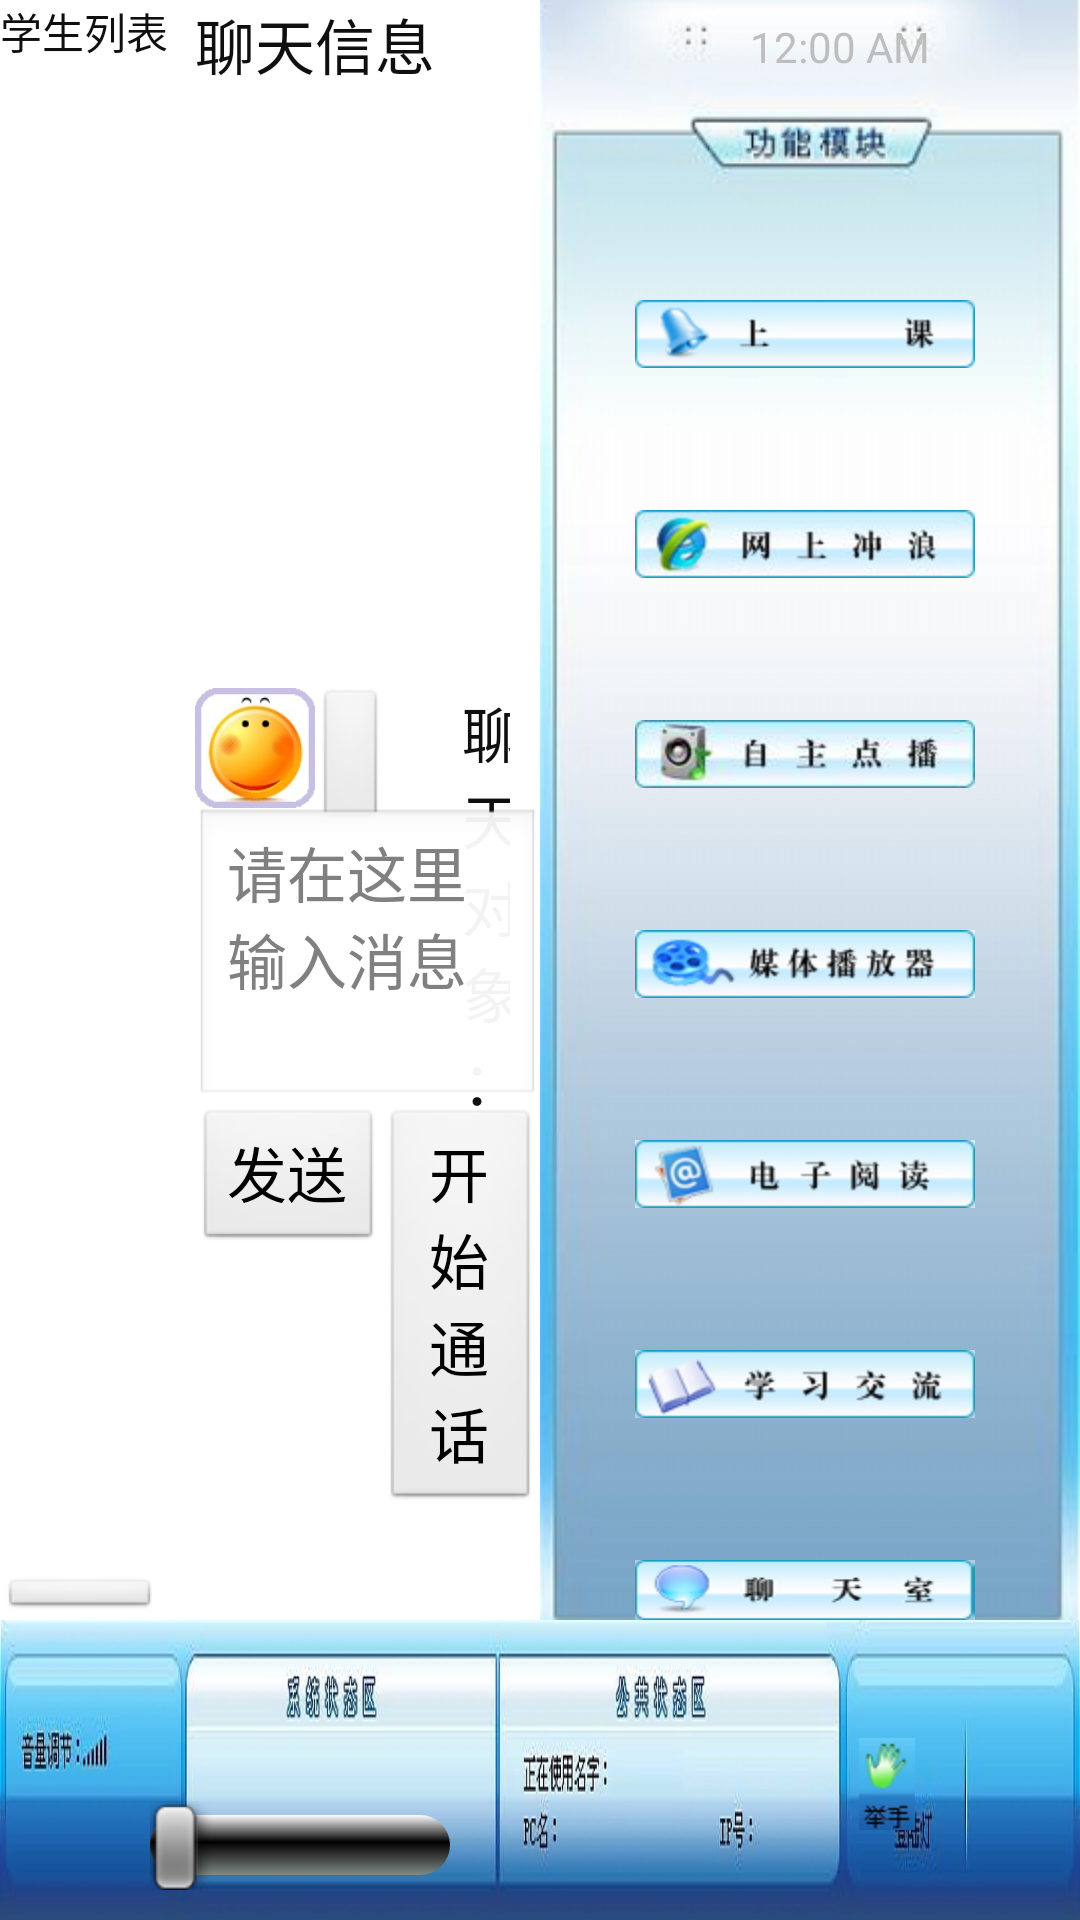

Where icons sit on this 1080x1920 app screen, as (x1, y1, x2, y2):
face: (195, 688, 315, 808)
